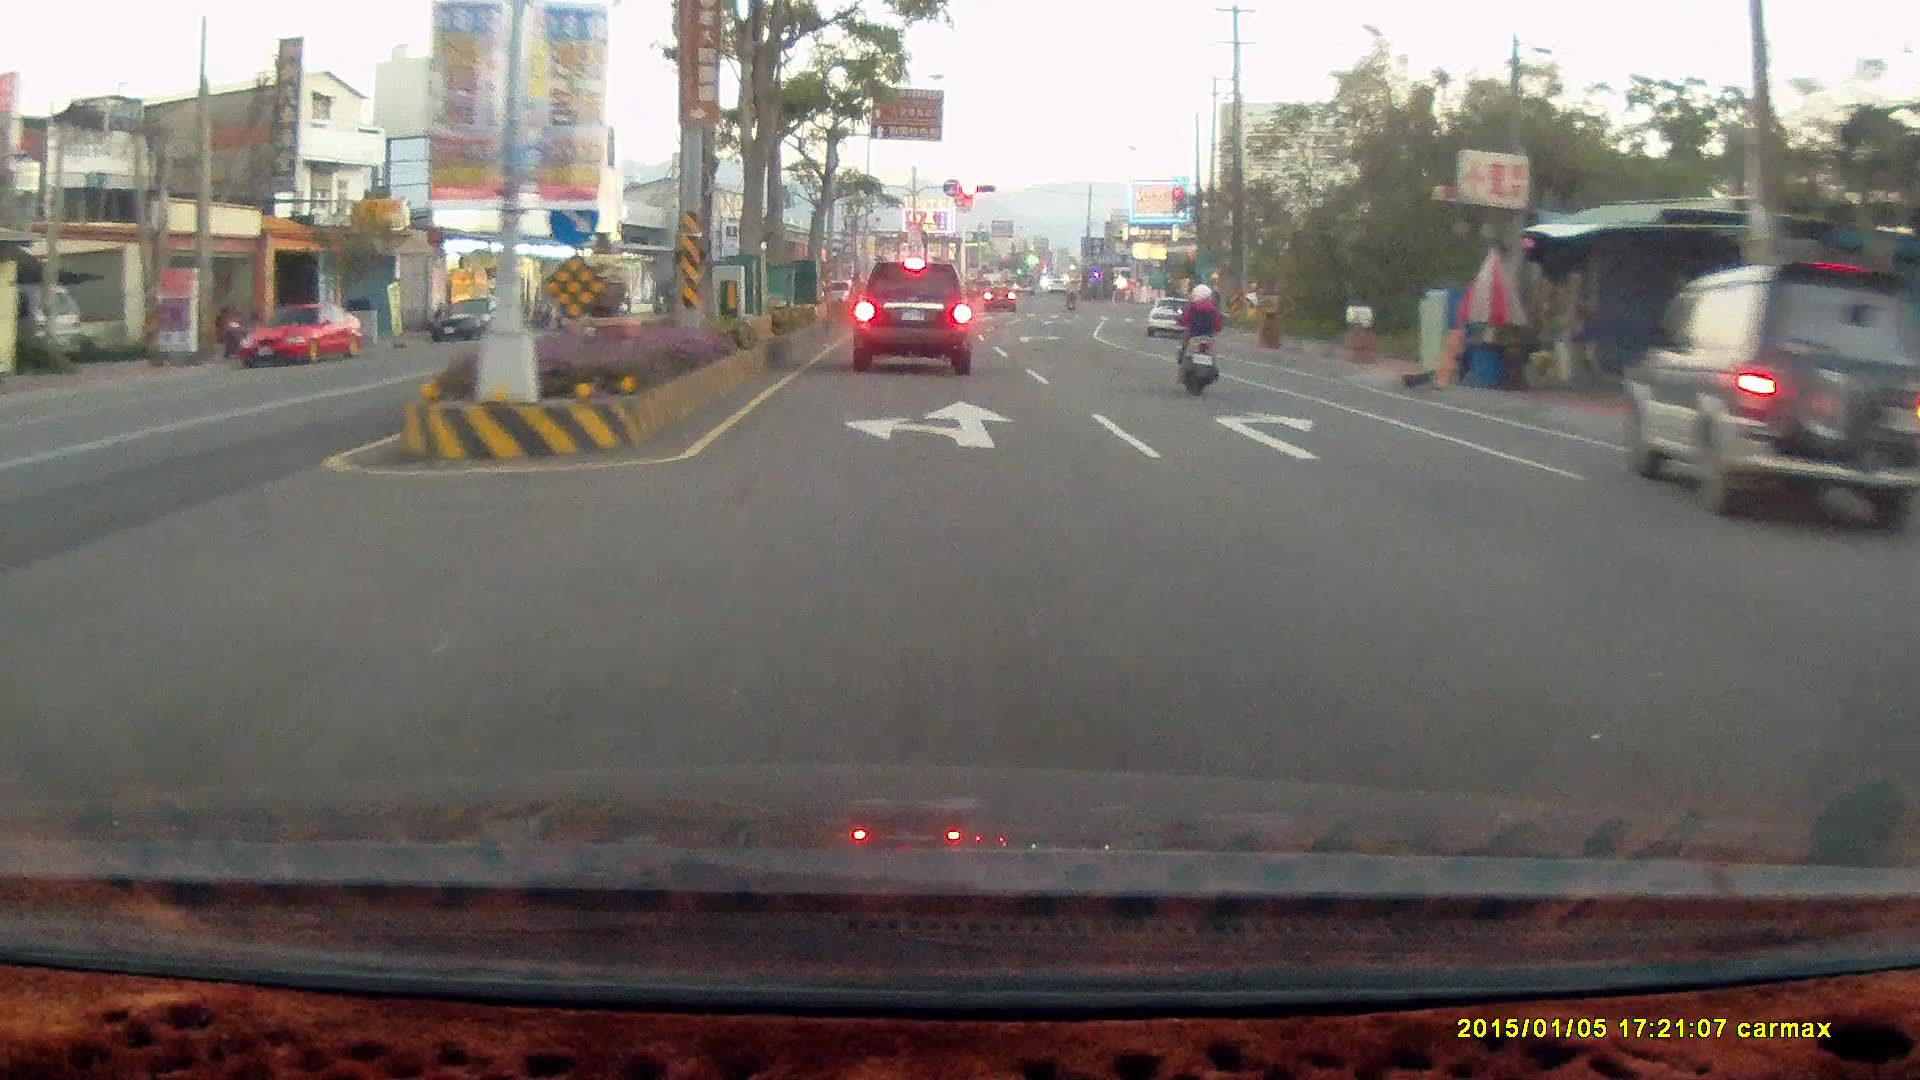rider: (1174, 279, 1224, 398)
vehicle: (1623, 262, 1920, 527), (1629, 265, 1920, 522), (851, 259, 971, 372), (239, 299, 369, 369), (237, 300, 366, 368), (1896, 493, 1920, 836), (1883, 528, 1920, 690), (433, 294, 526, 342), (1147, 297, 1198, 341), (1145, 296, 1198, 336)
